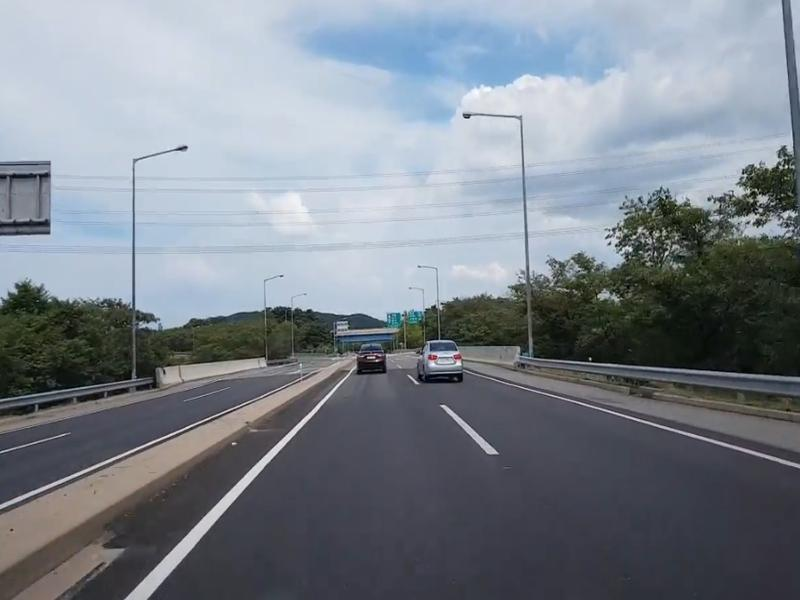car: (419, 341, 464, 379), (356, 343, 385, 372)
lane: (153, 411, 315, 588), (439, 402, 500, 456), (406, 374, 418, 385)
